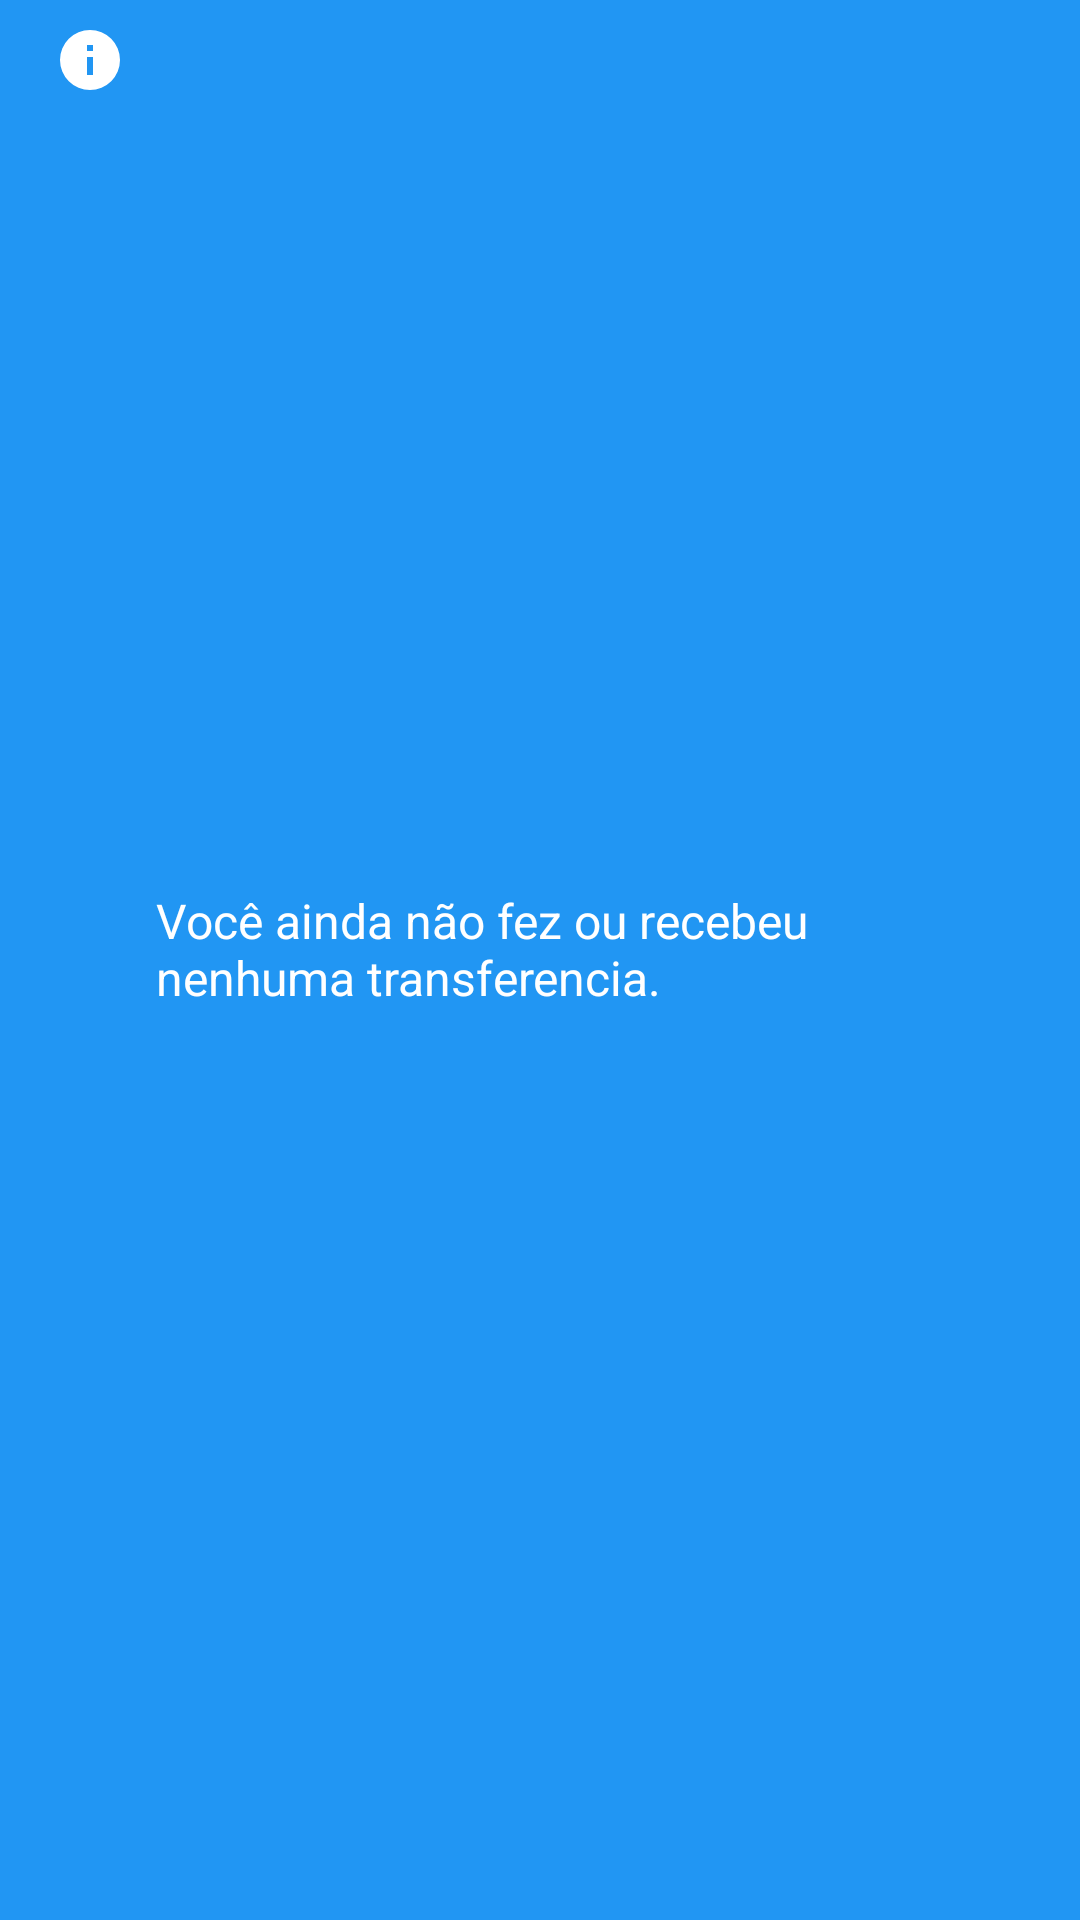

Locate icon controls on the screen. Image size 1080 × 1920, boxes as (x1, y1, x2, y2).
information: (60, 30, 120, 90)
